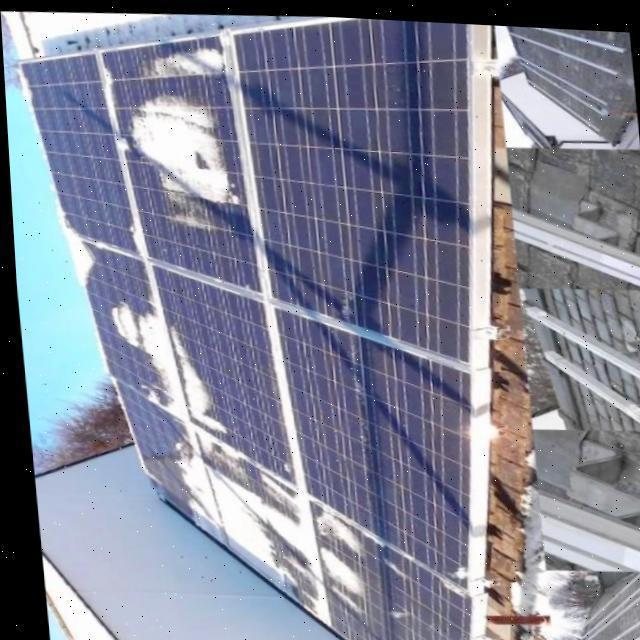Anomaly Solar Panel: (93, 30, 263, 297), (143, 261, 296, 486), (187, 425, 320, 625), (15, 51, 140, 255), (300, 492, 460, 640), (106, 381, 220, 543)
Normal Solar Panel: (227, 14, 470, 359), (269, 303, 465, 584)
Snow: (127, 401, 370, 623), (81, 225, 194, 430), (16, 64, 93, 282), (121, 96, 226, 197), (146, 320, 222, 439), (143, 39, 222, 82), (307, 538, 356, 597), (303, 504, 358, 546)
